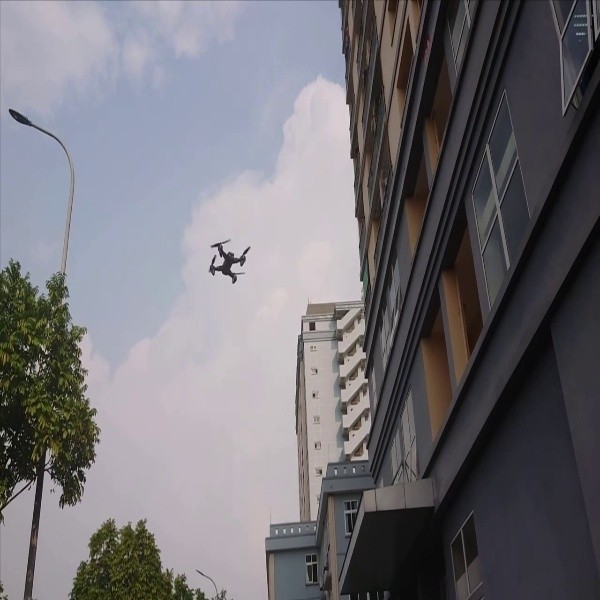drone: (203, 235, 252, 290)
